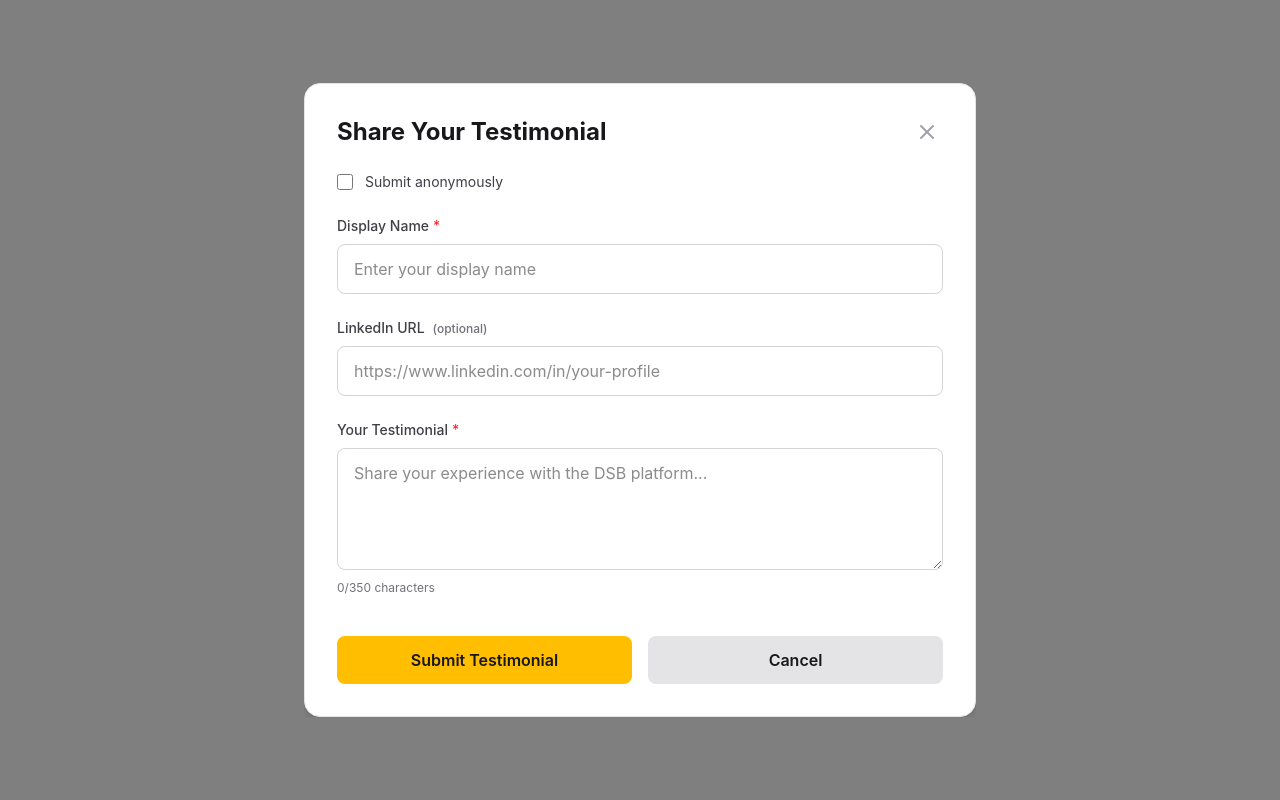
Test: submits a valid testimonial and shows the thank-you state
This screenshot has width=1280, height=800.
expect the button "Submit Testimonial" is shown: met, box [337,636,632,684]
In the field with id "displayName": (640, 269) [337,244,943,294], type "Ada Lovelace"
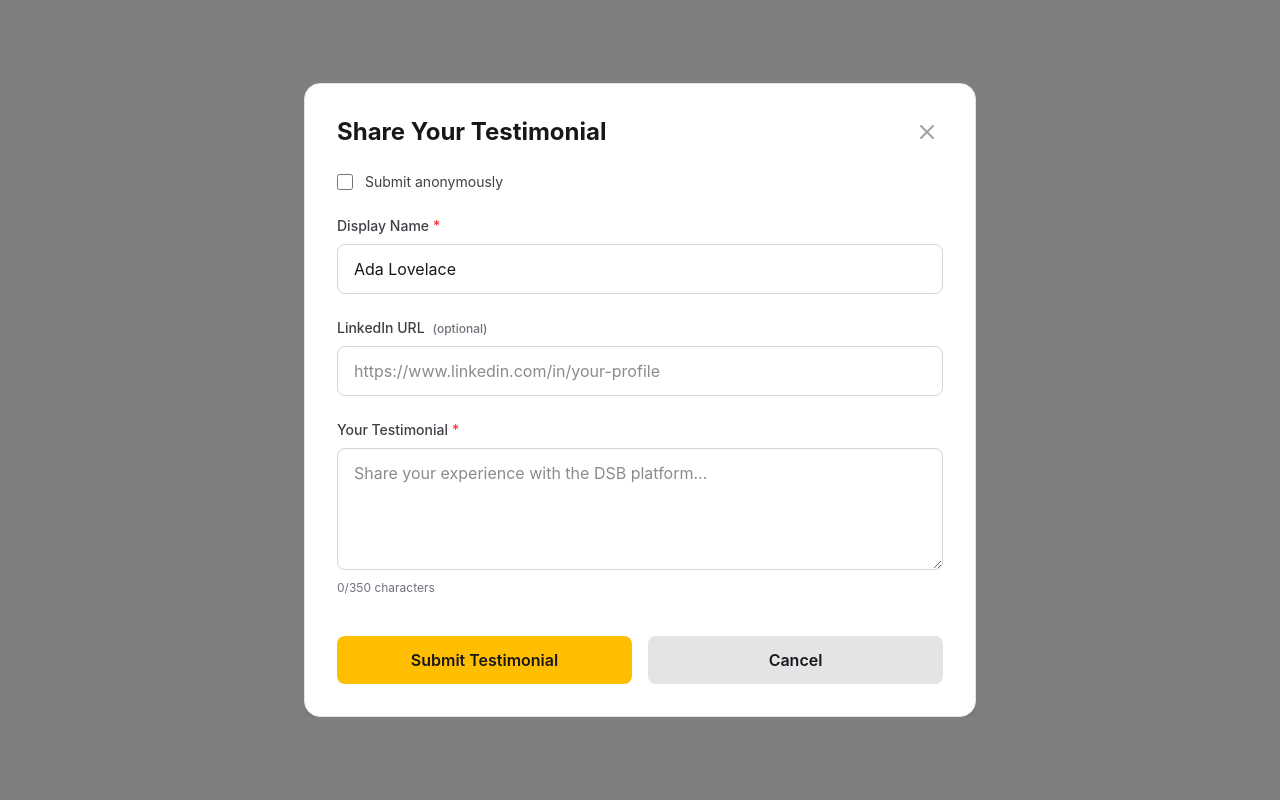
In the text box labelled "Your Testimonial*": (640, 509) [337,448,943,570], type "This platform is excellent for learning."
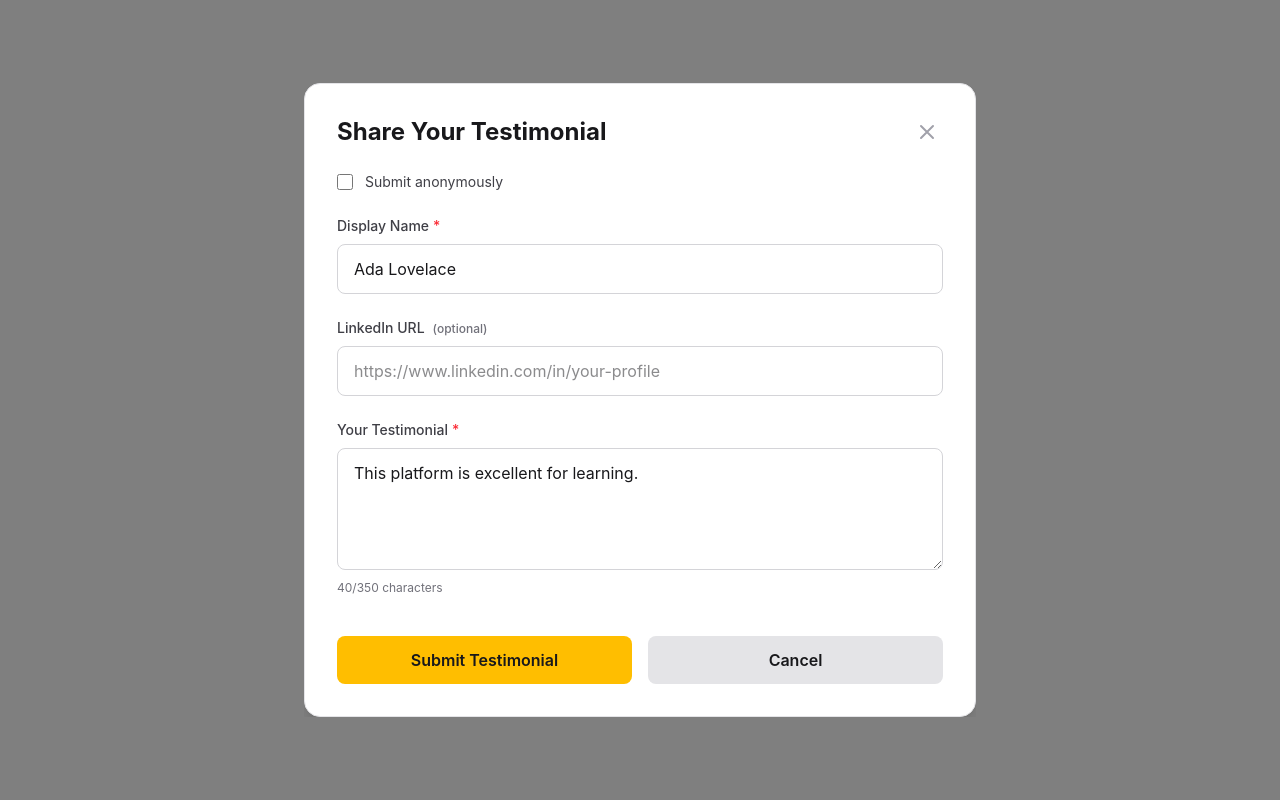
Click the button "Submit Testimonial": (484, 660) [337,636,632,684]
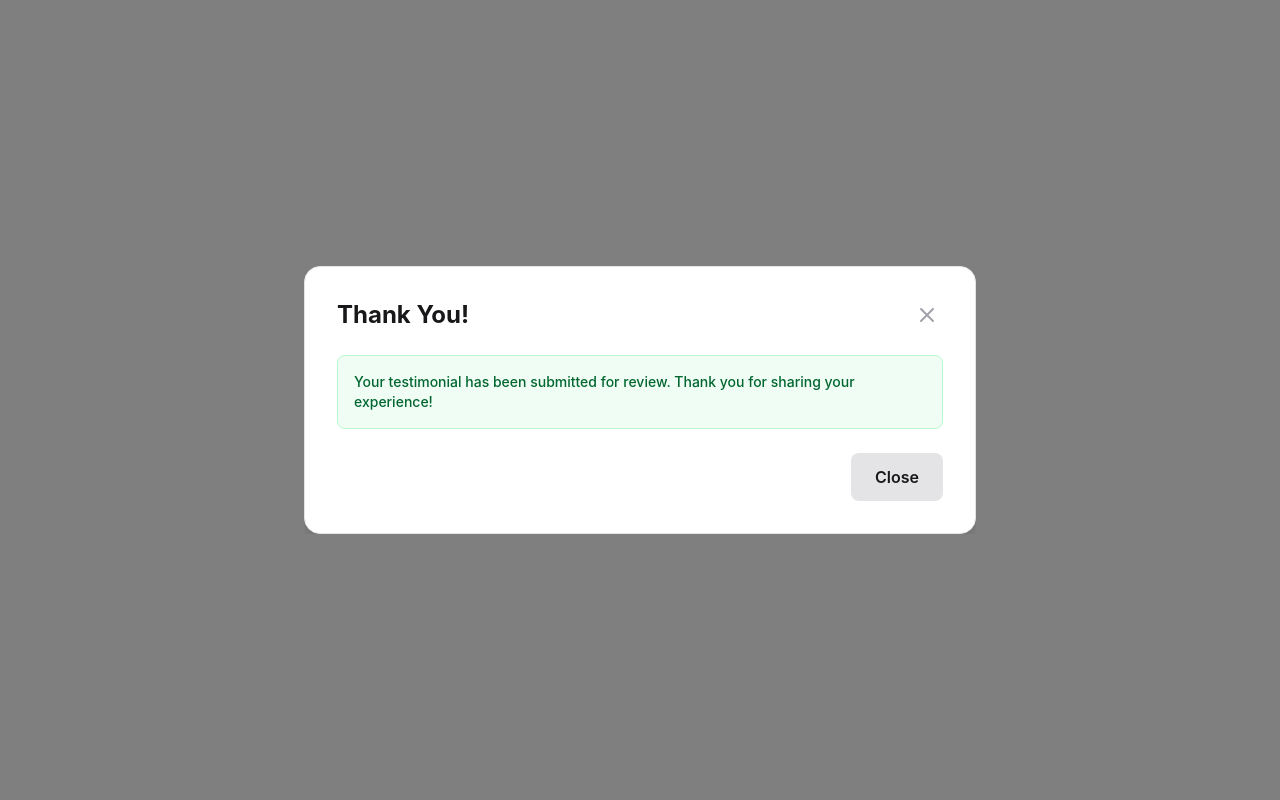
expect the heading "Thank You!" is shown: met, box [337,299,469,331]
